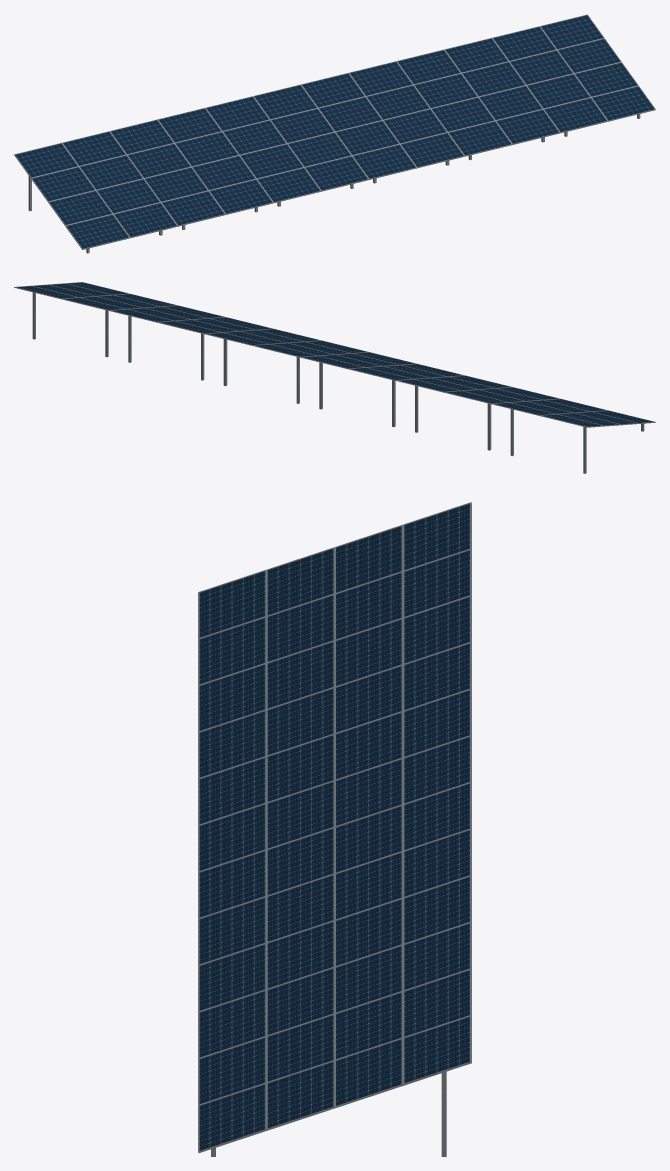
The model's file is FFPV_M10.glb.
3 views of the same model, one above another, from view 1: azimuth 30°, elevation 25°; view 2: azimuth 150°, elevation 25°; view 3: azimuth 270°, elevation 25° (orthographic). The views are drawn at different scales.
Parts seen in each view (by area): view 1: M10_1722x1134 (×48); view 2: M10_1722x1134 (×48); view 3: M10_1722x1134 (×48).
Boxes of the visible parts, x1,y1,x2,y2 form: M10_1722x1134 (×48): [14, 14, 655, 249]; M10_1722x1134 (×48): [14, 282, 655, 427]; M10_1722x1134 (×48): [198, 502, 471, 1152].
Size of the model in its own units: 20.66 by 1.84 by 4.27.
2 materials, 2 textured.
